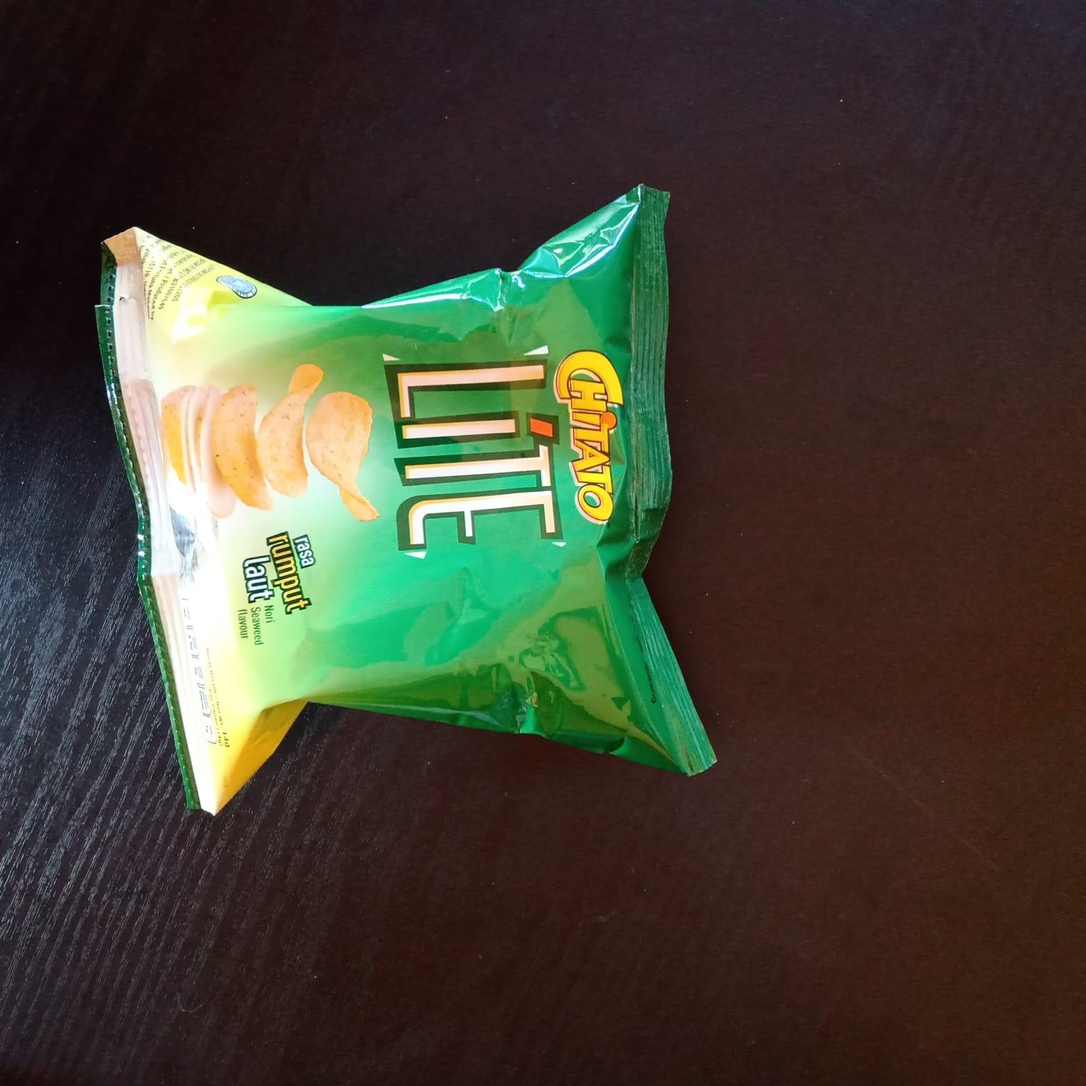Plastik: (96, 184, 720, 819)
